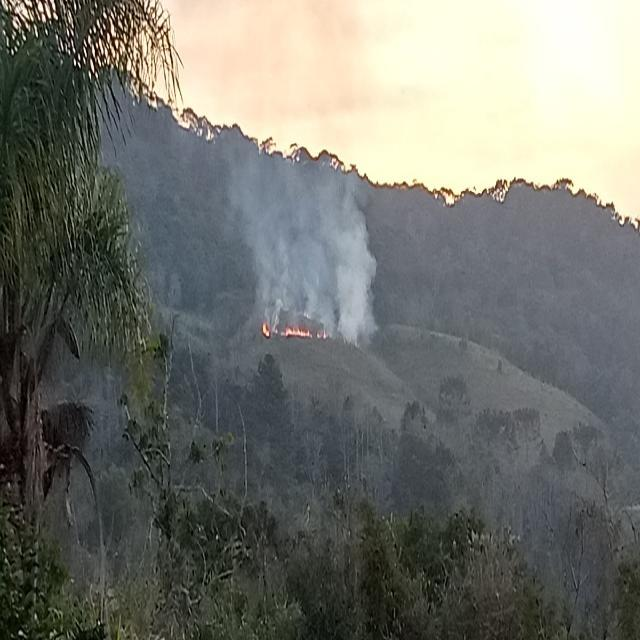Fire: (279, 320, 318, 339), (257, 322, 273, 338)
Smoke: (219, 0, 378, 350)
